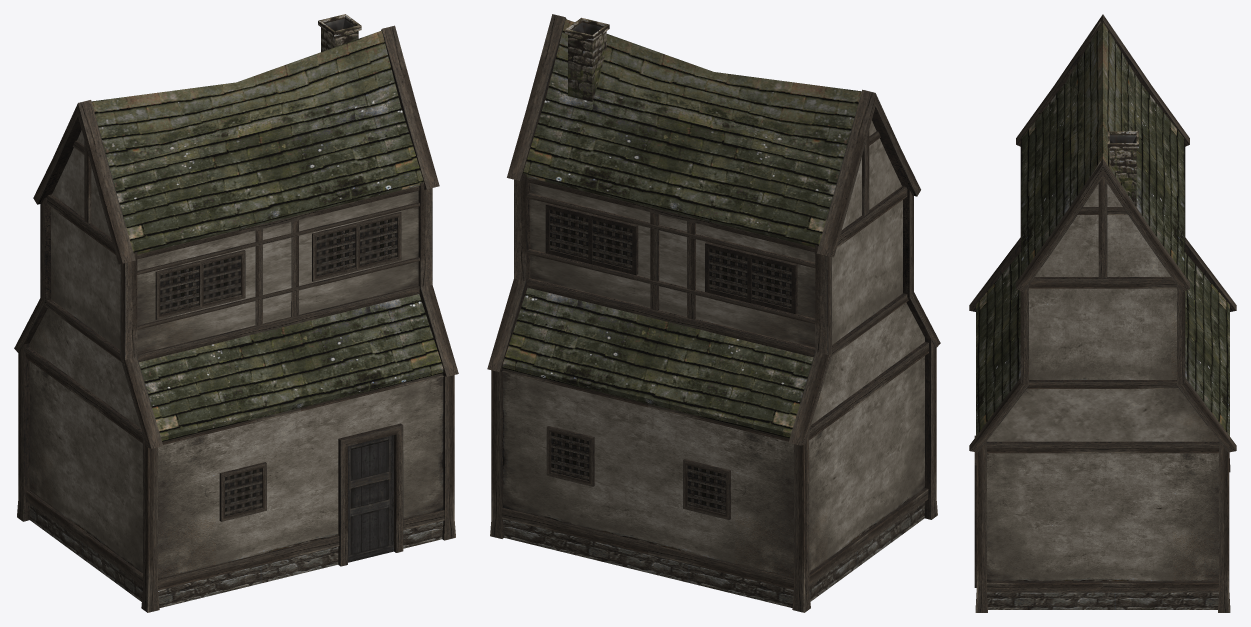
The model's file is SC_yonghengsenlin_31.FBX.
The picture shows the model from 3 angles, left to right: view 1: azimuth 30°, elevation 25°; view 2: azimuth 150°, elevation 25°; view 3: azimuth 270°, elevation 25°; orthographic projection. The views are drawn at different scales.
Visible parts, largest first — view 1: SC_yonghengsenlin_31; view 2: SC_yonghengsenlin_31; view 3: SC_yonghengsenlin_31.
Boxes of the visible parts, <box> form: SC_yonghengsenlin_31: <box>14,14,458,612</box>; SC_yonghengsenlin_31: <box>487,14,940,612</box>; SC_yonghengsenlin_31: <box>969,14,1236,612</box>.
Bounding box in the file's own units: 648 × 917 × 486.
